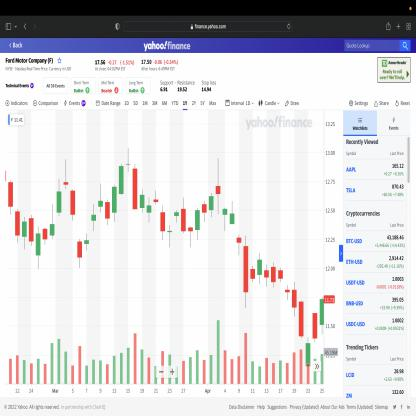Bearish Abandoned Baby: (55, 156, 77, 223)
Bearish Evening Star Doji: (118, 144, 139, 214)
Bearish Kicker: (228, 198, 243, 258)
Bullish Hammer: (180, 193, 201, 252)
